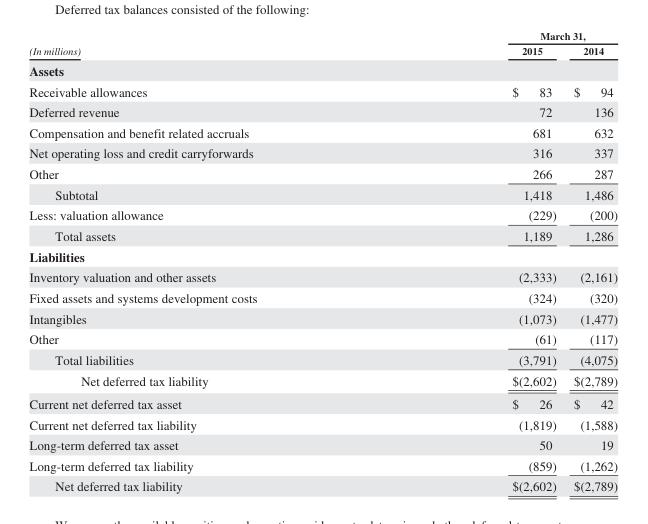table: (28, 29, 617, 493)
table column: (28, 29, 384, 493), (384, 29, 564, 493), (564, 29, 617, 493)
table column header: (28, 29, 617, 59)
table projected row header: (28, 59, 617, 80), (28, 245, 617, 266)
table row: (28, 369, 617, 391), (28, 391, 617, 413), (28, 59, 617, 80), (28, 80, 617, 101), (28, 101, 617, 122), (28, 142, 617, 163), (28, 163, 617, 184), (28, 204, 617, 225), (28, 245, 617, 266), (28, 266, 617, 287), (28, 307, 617, 328), (28, 328, 617, 349), (28, 413, 617, 434), (28, 434, 617, 455), (28, 122, 617, 142), (28, 184, 617, 204), (28, 225, 617, 245), (28, 287, 617, 307), (28, 349, 617, 369), (28, 455, 617, 475), (28, 475, 617, 493), (28, 42, 617, 59), (28, 29, 617, 42)
table spanning cell: (28, 29, 384, 59), (384, 29, 617, 42)
